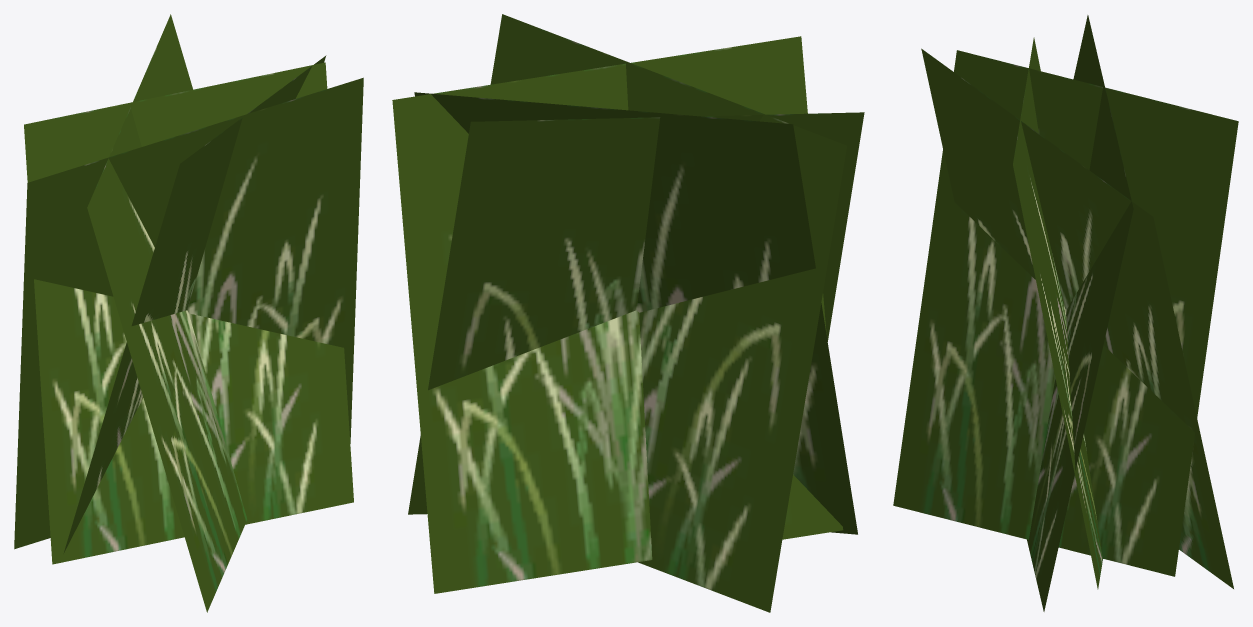
The model's file is reeds_pond_lush_a_1.glb.
The picture shows the model from 3 angles, left to right: view 1: azimuth 30°, elevation 25°; view 2: azimuth 150°, elevation 25°; view 3: azimuth 270°, elevation 25°; orthographic projection. The views are drawn at different scales.
Parts seen in each view (by area): view 1: reeds_pond_lush_a_1; view 2: reeds_pond_lush_a_1; view 3: reeds_pond_lush_a_1.
Part boxes in pixels (left/top/right/bottom): reeds_pond_lush_a_1: left=14, top=14, right=363, bottom=612; reeds_pond_lush_a_1: left=392, top=14, right=864, bottom=612; reeds_pond_lush_a_1: left=893, top=15, right=1238, bottom=611.
Bounding box in the file's own units: 2.71 × 3.21 × 2.23.
1 material, 1 textured.
